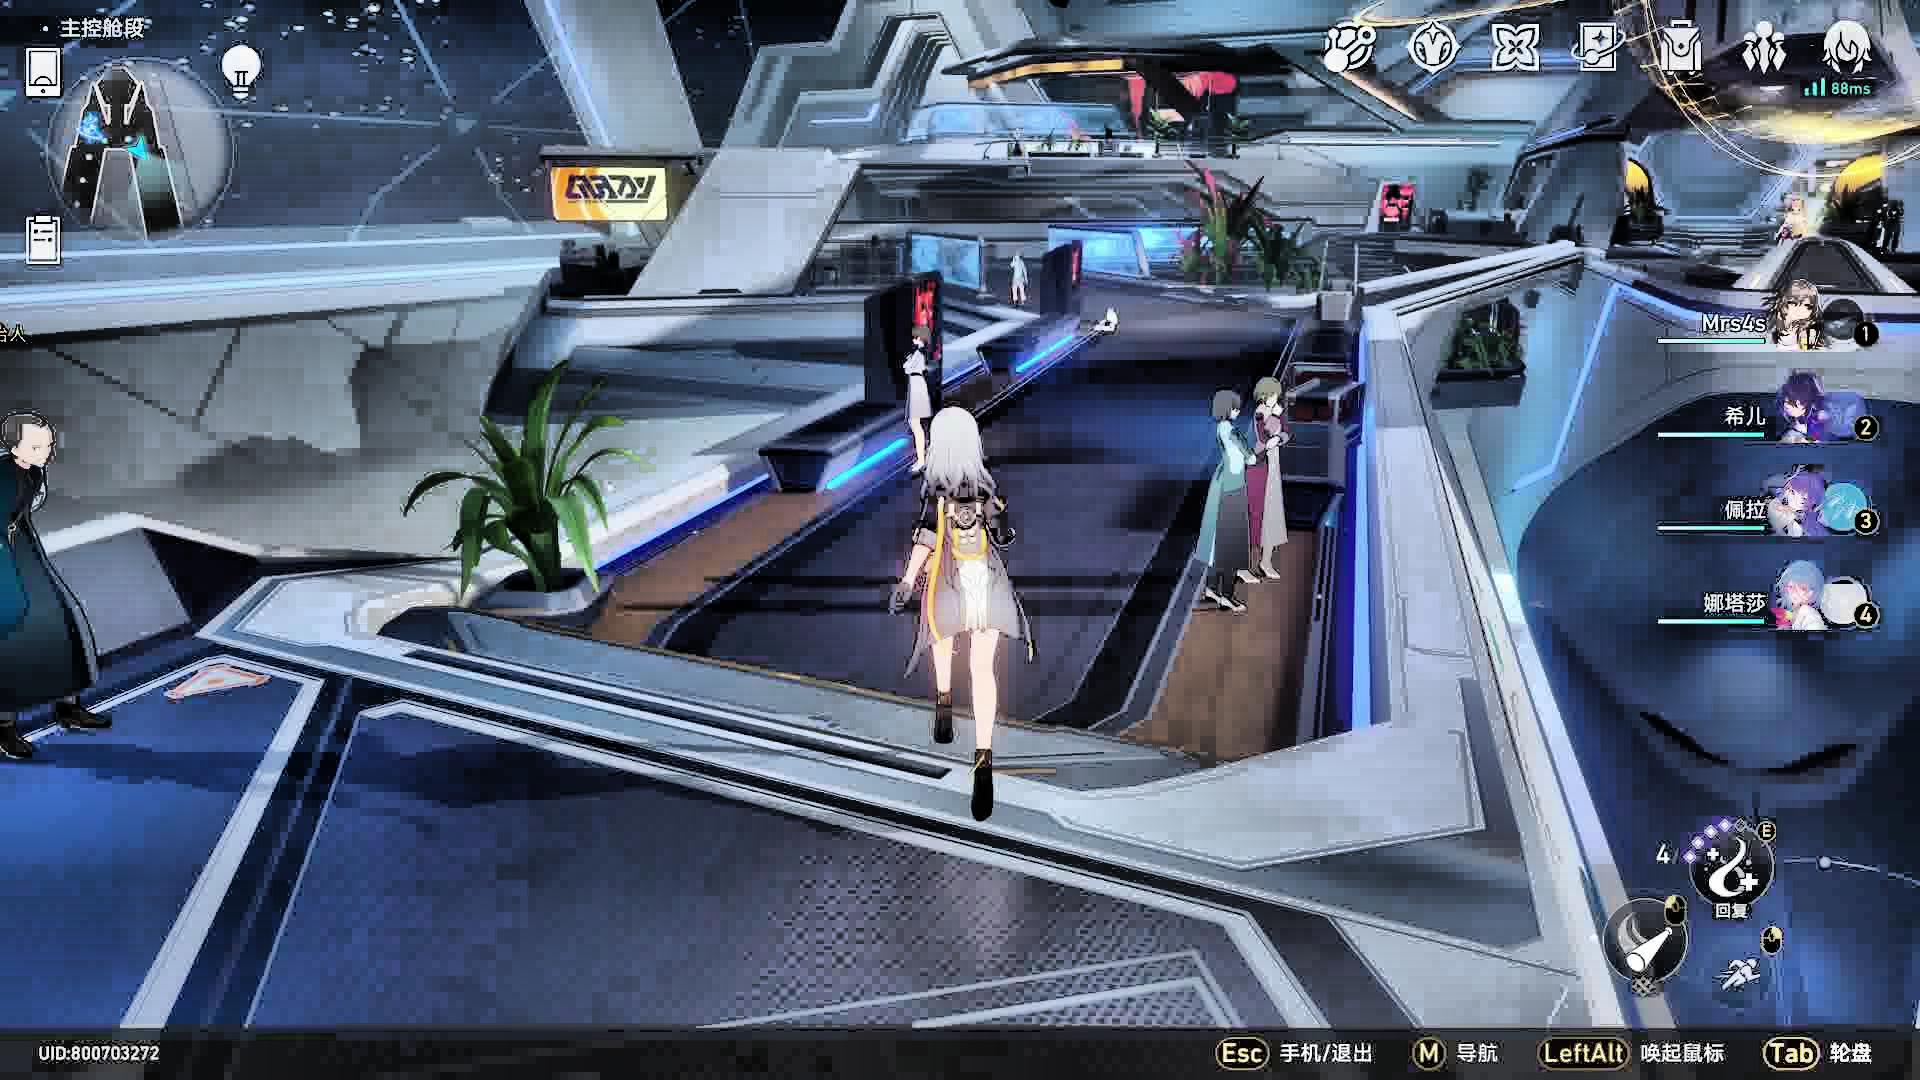Self: (891, 405, 1035, 827)
TeamMate: (0, 388, 115, 765), (1200, 380, 1250, 621), (1245, 375, 1290, 582), (894, 316, 939, 477), (1007, 245, 1033, 309)
